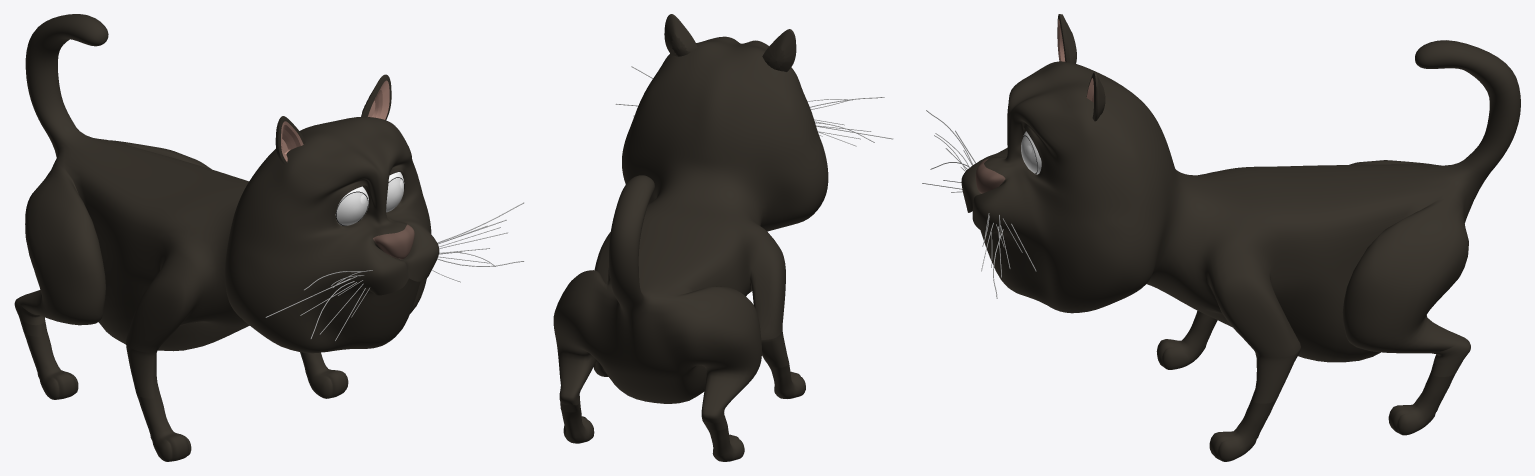
File: M_Romero.fbx
3 views of the same model, side by side, from view 1: azimuth 30°, elevation 25°; view 2: azimuth 150°, elevation 25°; view 3: azimuth 270°, elevation 25° (orthographic). The views are drawn at different scales.
Parts seen in each view (by area): view 1: C_Romero2, polySurface26, polySurface27, L_eye_cone_GEO; view 2: C_Romero2, polySurface27, polySurface26; view 3: C_Romero2, polySurface27.
Part boxes in pixels (left/top/right/bottom): C_Romero2: left=14, top=14, right=439, bottom=461; polySurface26: left=361, top=74, right=391, bottom=119; polySurface27: left=275, top=116, right=305, bottom=164; L_eye_cone_GEO: left=336, top=192, right=367, bottom=225; C_Romero2: left=553, top=36, right=828, bottom=461; polySurface27: left=762, top=29, right=796, bottom=71; polySurface26: left=664, top=14, right=697, bottom=56; C_Romero2: left=961, top=40, right=1520, bottom=461; polySurface27: left=1057, top=14, right=1076, bottom=63.
Bounding box in the file's own units: 4.78 × 5.34 × 7.69.
